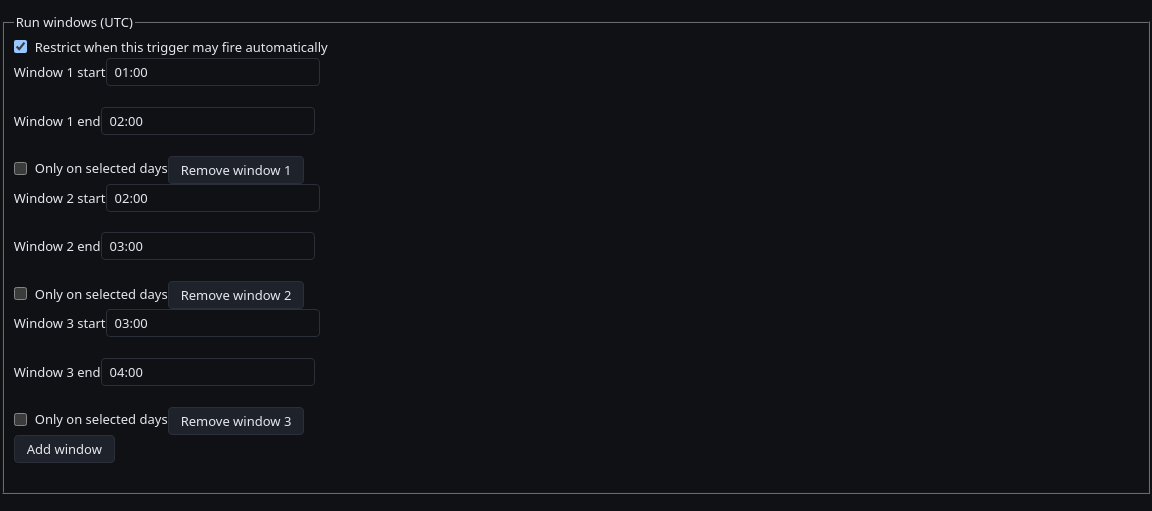
Test: #1092 run-window row removal — identity and focus › no row data is corrupted by the removal — every field is controlled
Click the button "Remove window 2": [236, 295] box top-left (168, 281), bottom-right (304, 309)
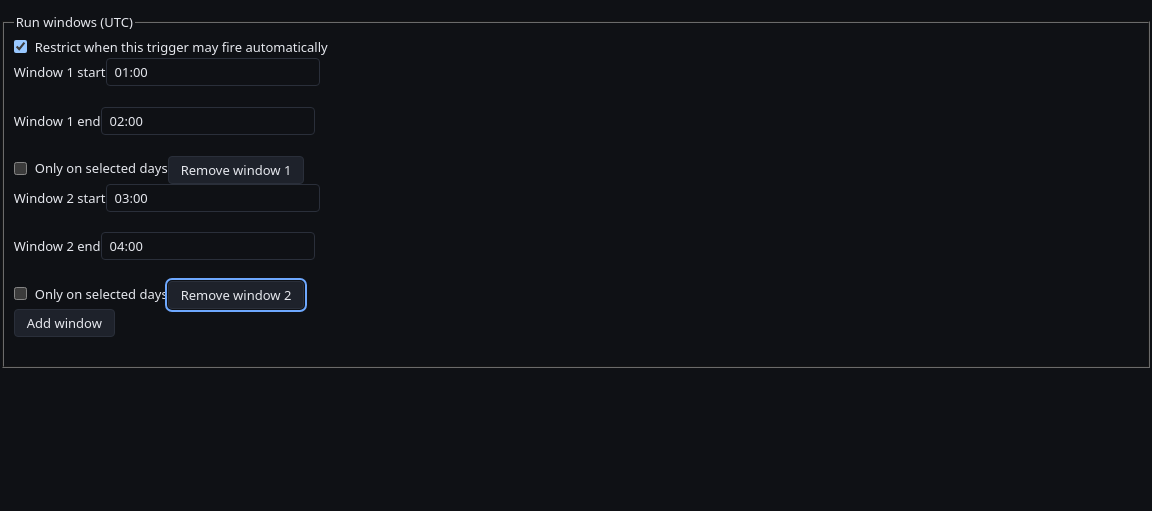
Check: the field labelled "Window 1 start" holds "01:00", box top-left (106, 58), bottom-right (320, 86)
Check: the label labelled "Window 3 start" is gone
